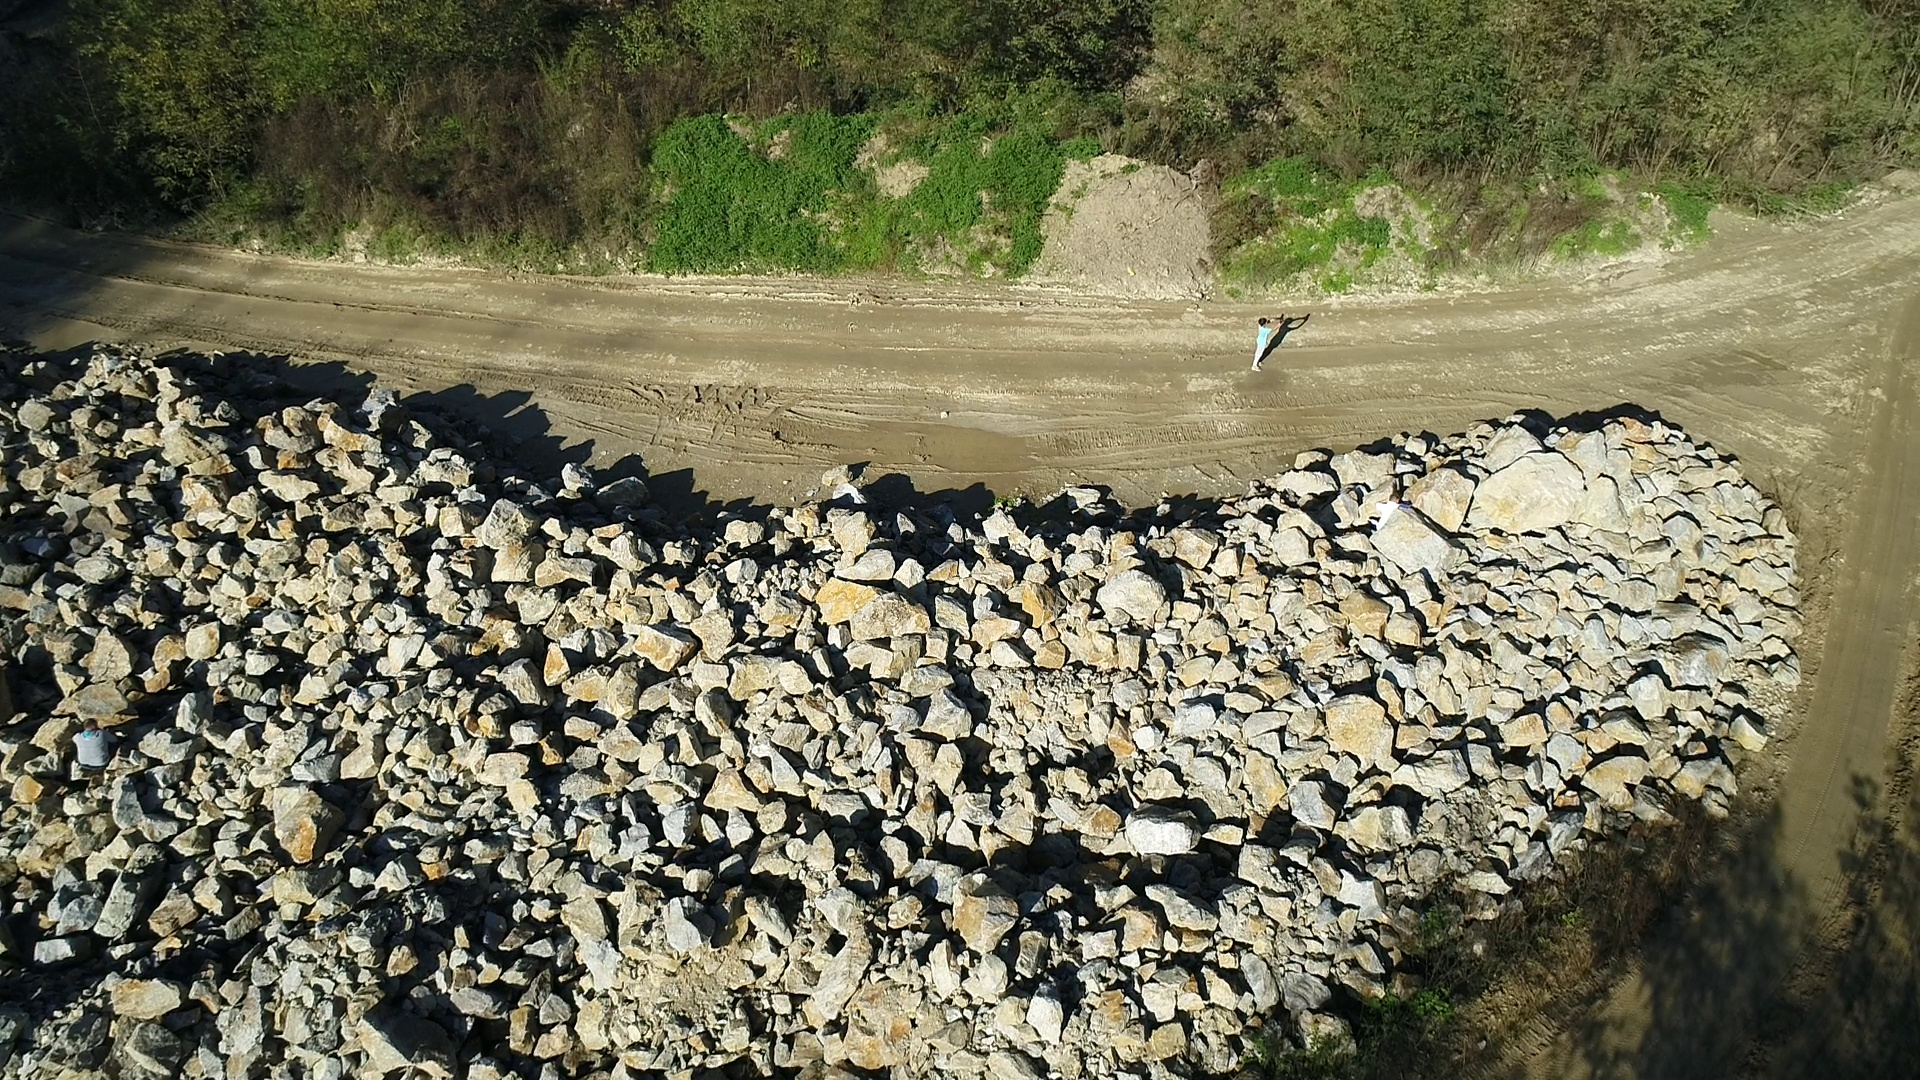person: (71, 718, 119, 768), (1249, 311, 1287, 372), (1367, 492, 1414, 532)
